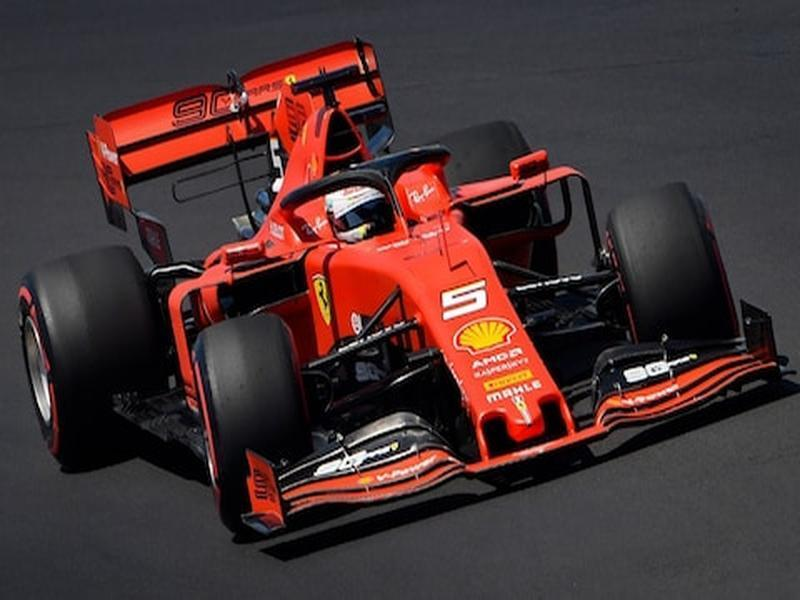f1: (36, 60, 737, 528)
